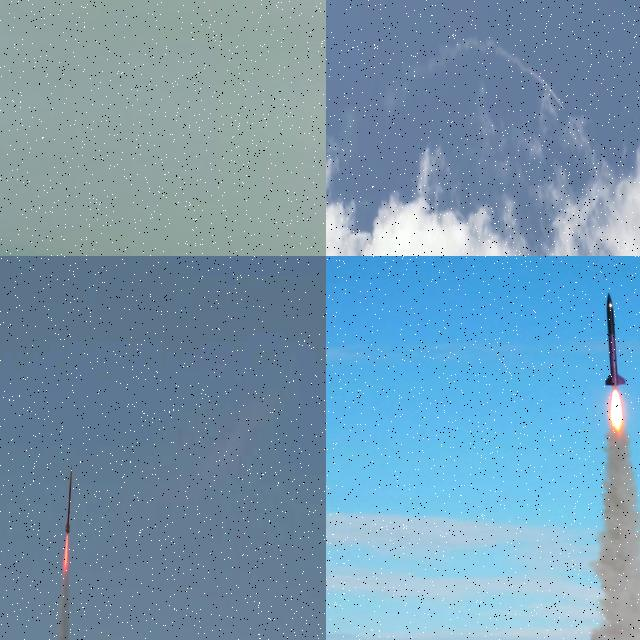Rocket: (604, 292, 626, 387), (64, 465, 72, 535), (564, 109, 565, 112)
